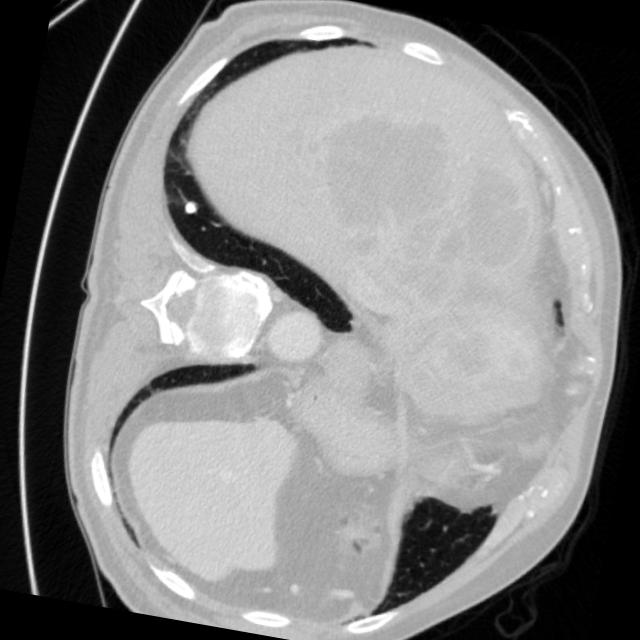nodule: (174, 188, 210, 224)
